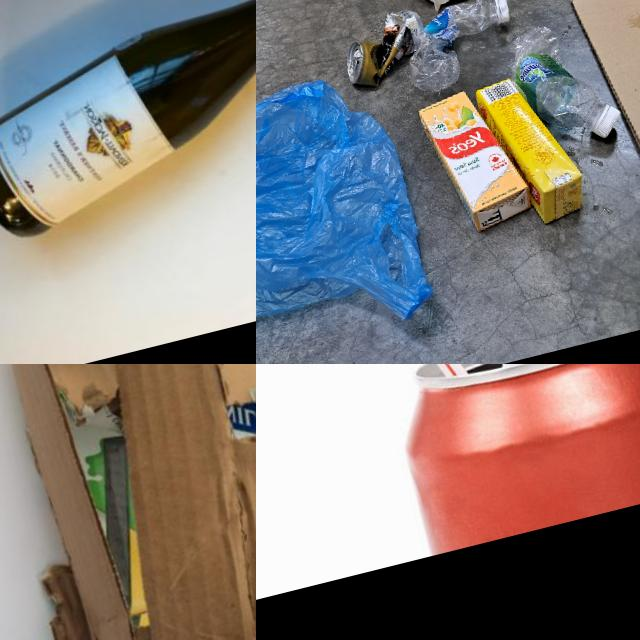aba de lata: (346, 56, 360, 76)
caixinha: (474, 66, 590, 234), (416, 82, 536, 238)
garrafa de vidro: (0, 0, 256, 250)
garrafa plástica: (504, 15, 610, 144), (393, 0, 513, 96)
lata: (380, 364, 640, 554), (334, 5, 434, 91)
papelão: (0, 364, 256, 640), (567, 0, 640, 326)
sacola plástica: (256, 63, 440, 360)
tampa plástica: (590, 104, 626, 140), (494, 0, 511, 23)
